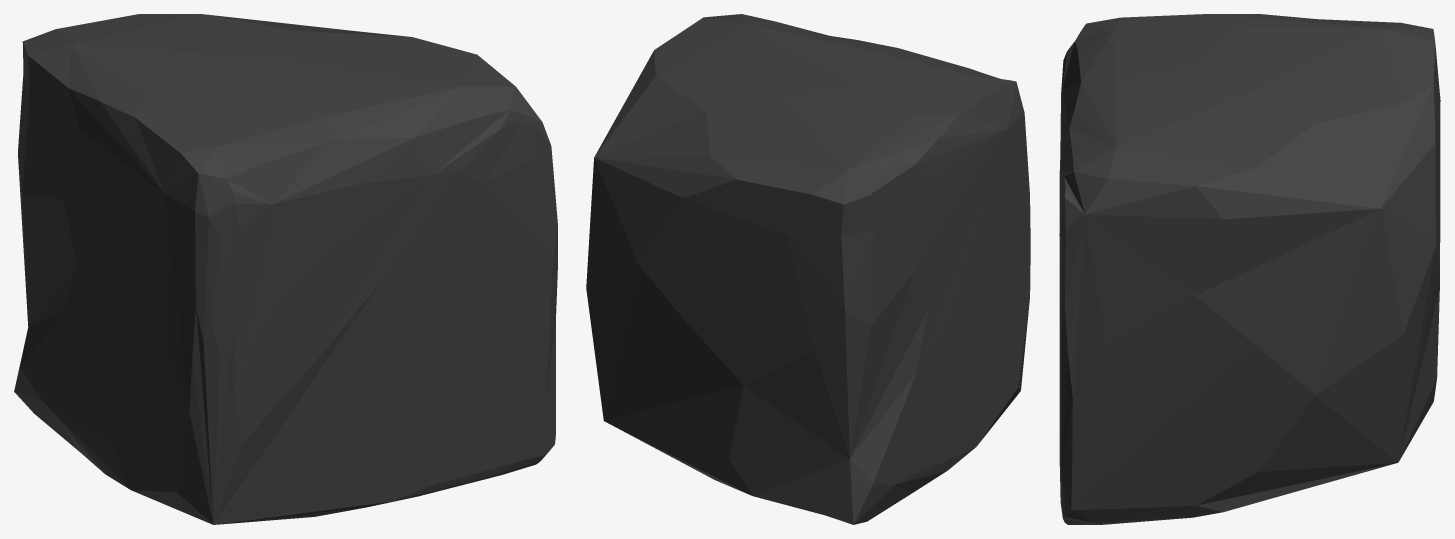
3 renders of one model, left to right at view 1: azimuth 30°, elevation 25°; view 2: azimuth 150°, elevation 25°; view 3: azimuth 270°, elevation 25°, orthographic. The views are drawn at different scales.
Parts seen in each view (by area): view 1: world; view 2: world; view 3: world.
Part boxes in pixels (x1,y1,x2,y2): world: [14, 14, 557, 524]; world: [586, 14, 1030, 524]; world: [1059, 14, 1440, 524].
Size of the model in its own units: 9.94 by 9.94 by 9.43.
Materials: 1 (1 with a texture image).
